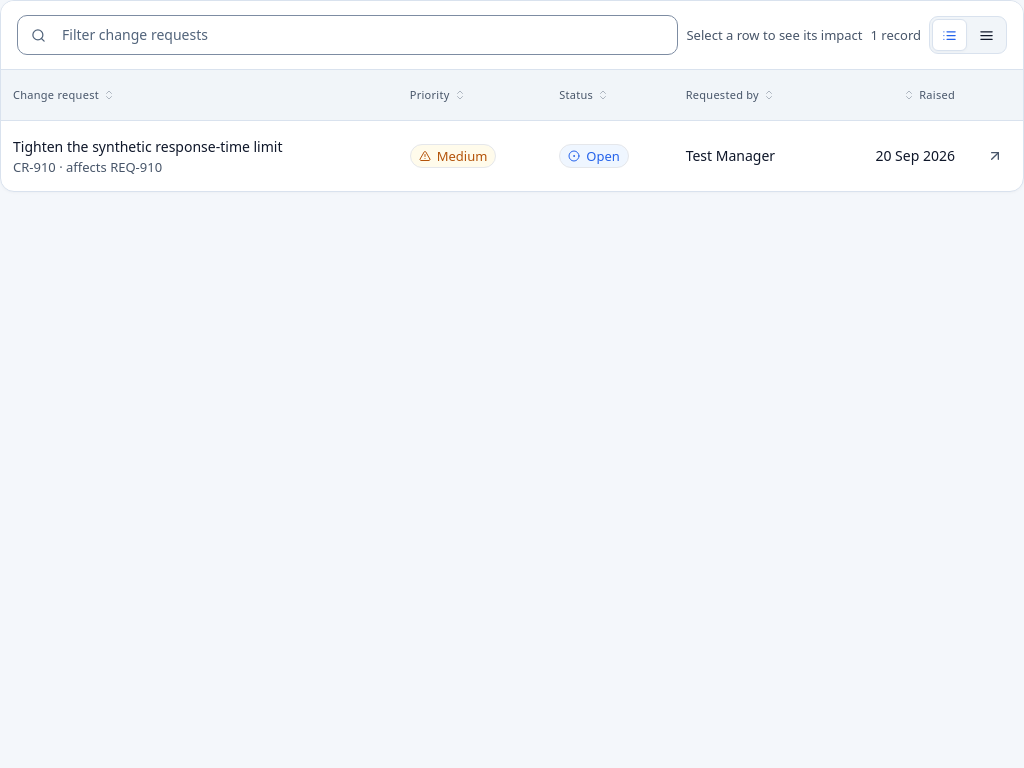
Scenario: change impact evidence › keeps the calculated risk level when the impact was assessed
The image size is (1024, 768).
Click the text "Tighten the synthetic response-time limit": (148, 146) [13,137,282,156]
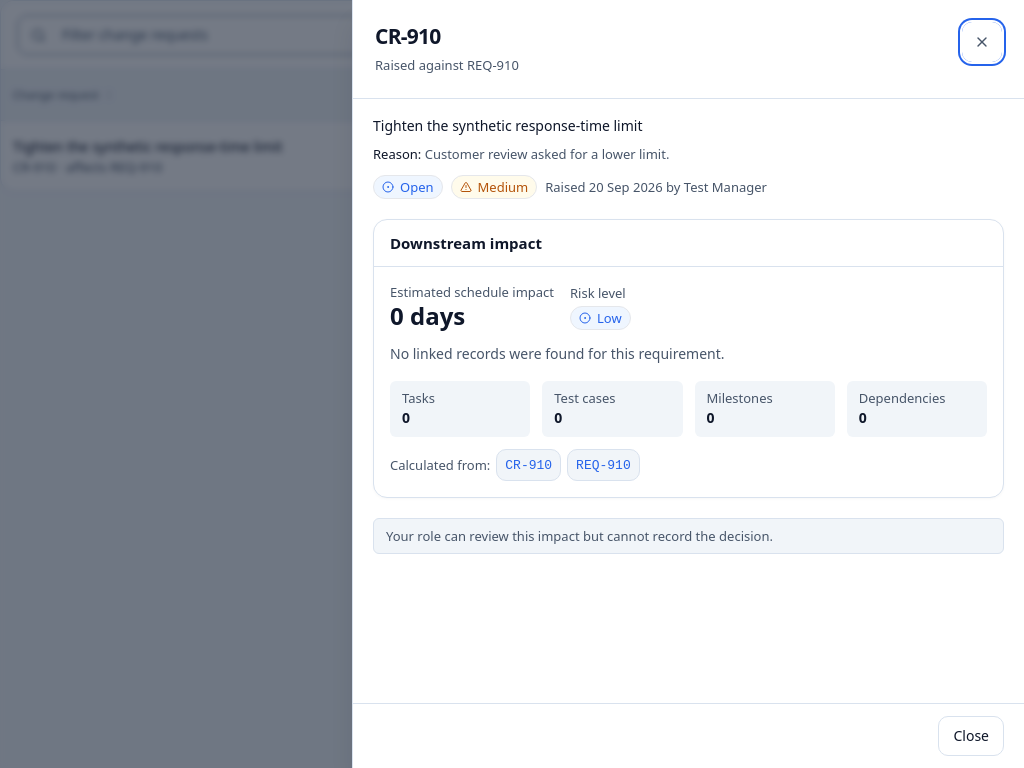
Check: the text "Low" is shown, box [570,306,631,330]
